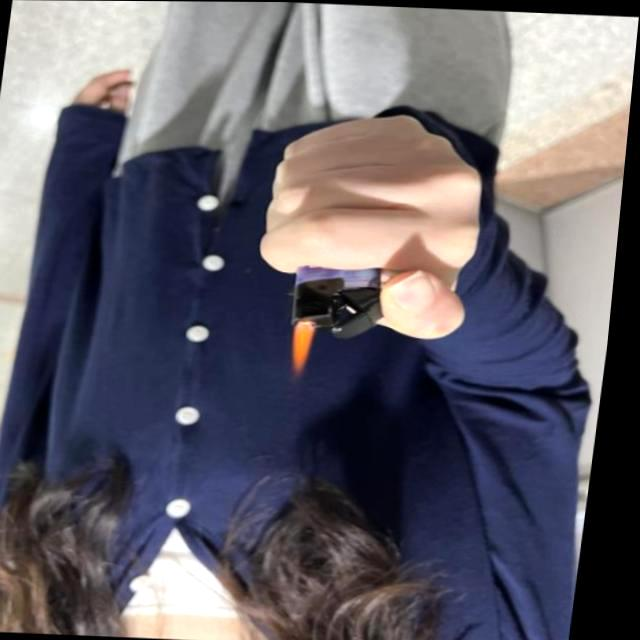fire: (288, 313, 326, 375)
